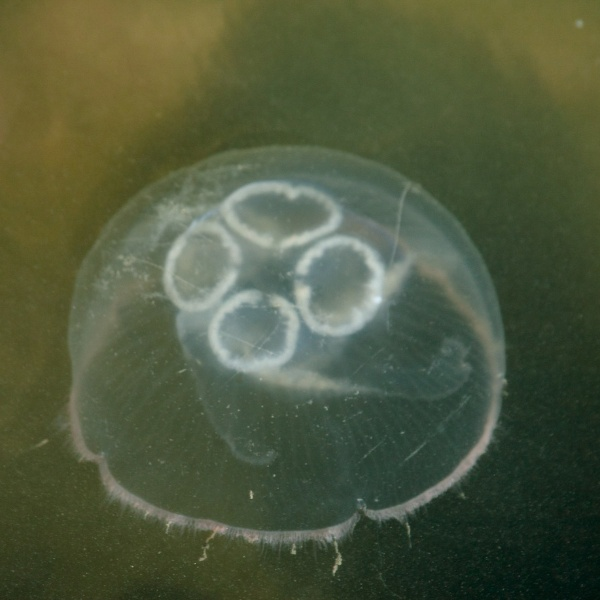Jellyfish: (64, 131, 514, 545)
